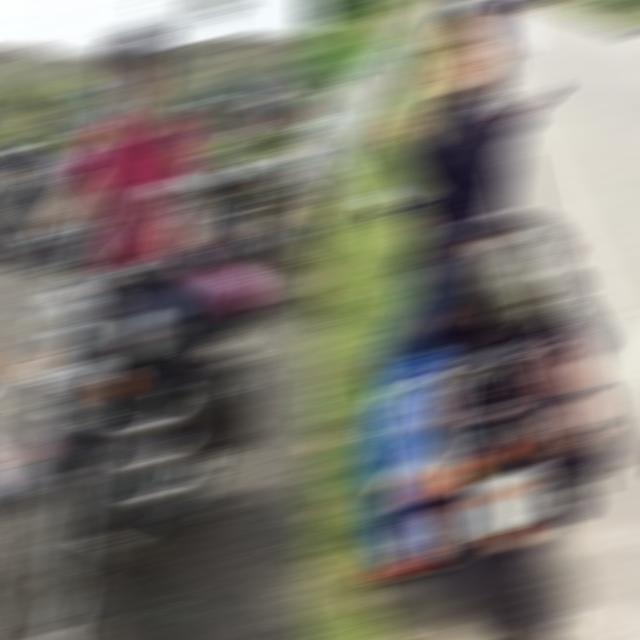With Helmet: (100, 8, 172, 118)
Without Helmet: (427, 2, 508, 91)
